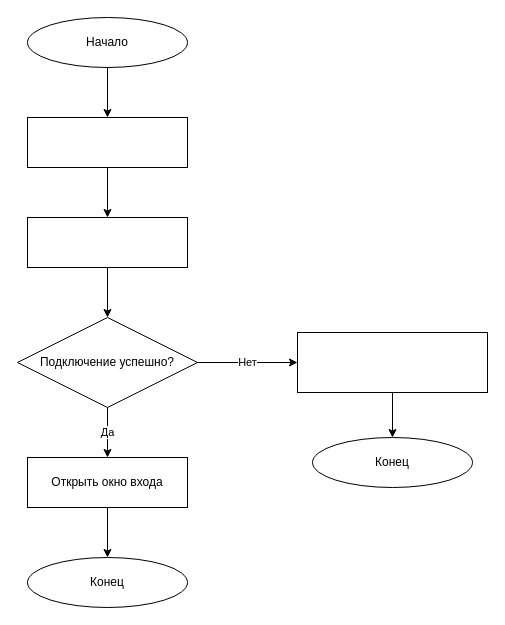
Some shapes in this 505 by 625 pixel diagram are drawn without their labels. The centre of each missing label's shape, as x and y in pixels:
"Загрузить настройки" belongs at (x=107, y=142).
"Подключиться к БД" belongs at (x=107, y=242).
"Показать сообщение о проблеме" belongs at (x=392, y=362).
